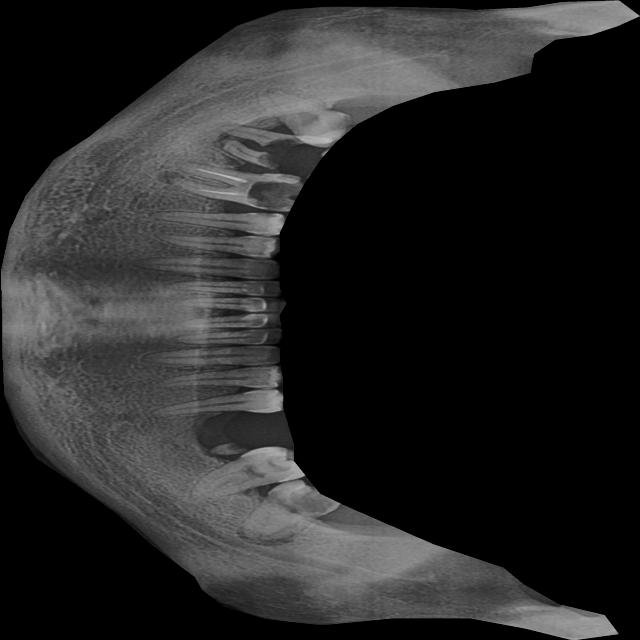mandibula: (0, 0, 639, 640)
